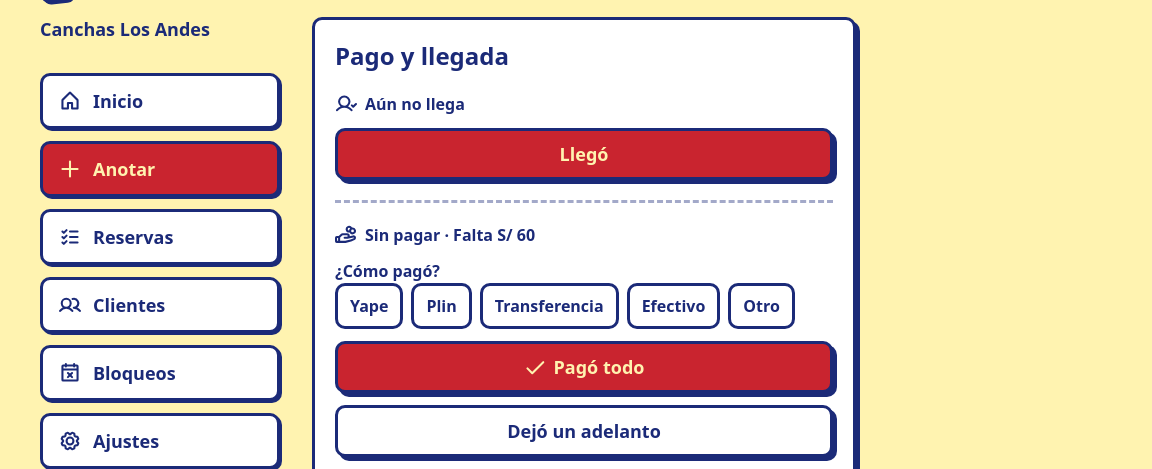
Test: payment › registers that the customer paid everything, and how
(page scrolled)
Click the radio button labelled "Plin" at (442, 306), box [411,283,472,329]
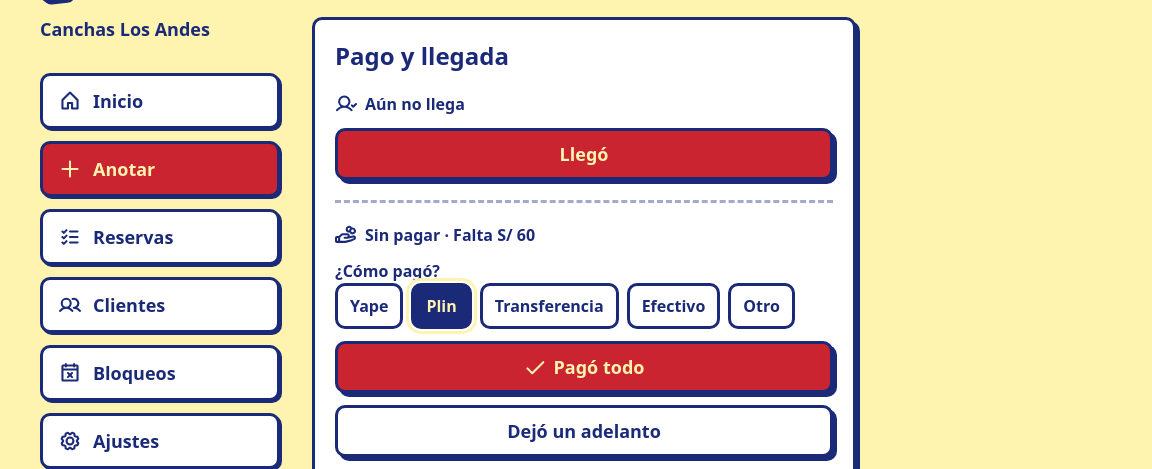
Click the button "Pagó todo" at (584, 367), box [335,341,833,393]
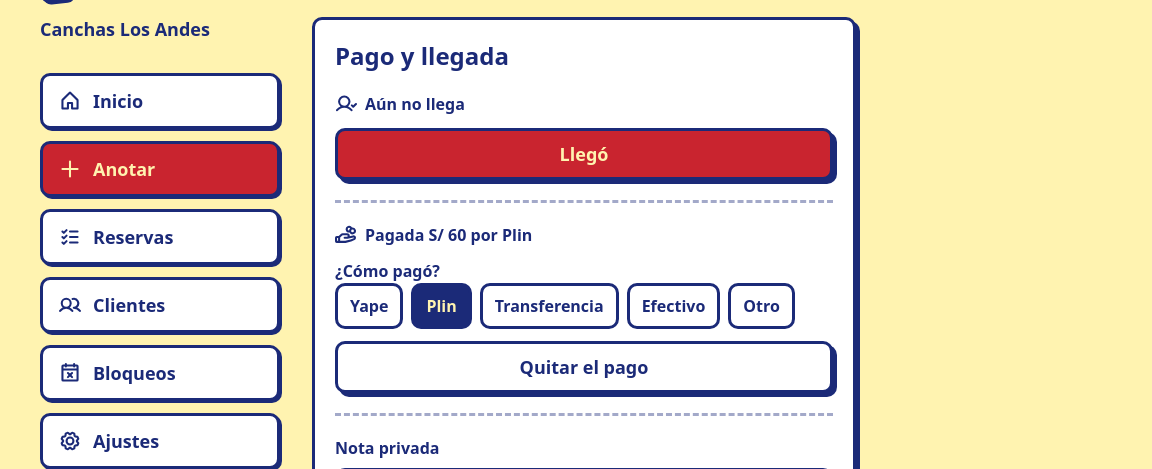
Now the text "Pagada S/ 60 por Plin" is shown, box [335,224,532,246]
Now the button "Pagó todo" is gone
